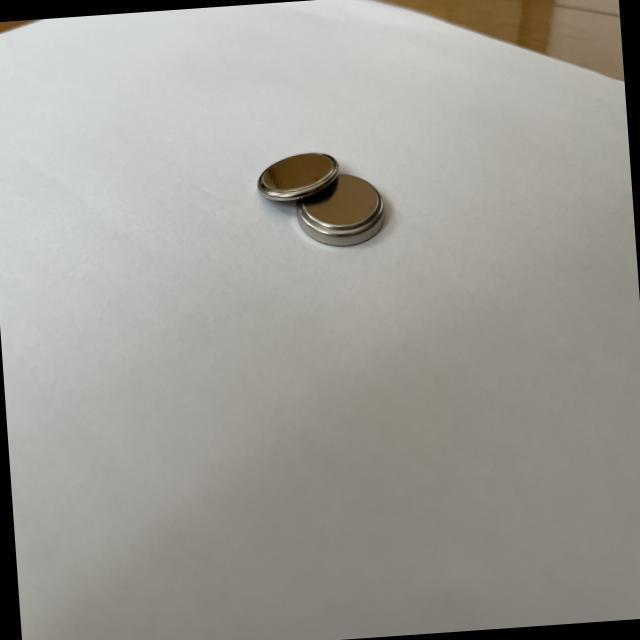COIN: (293, 173, 388, 251), (254, 150, 340, 206)
